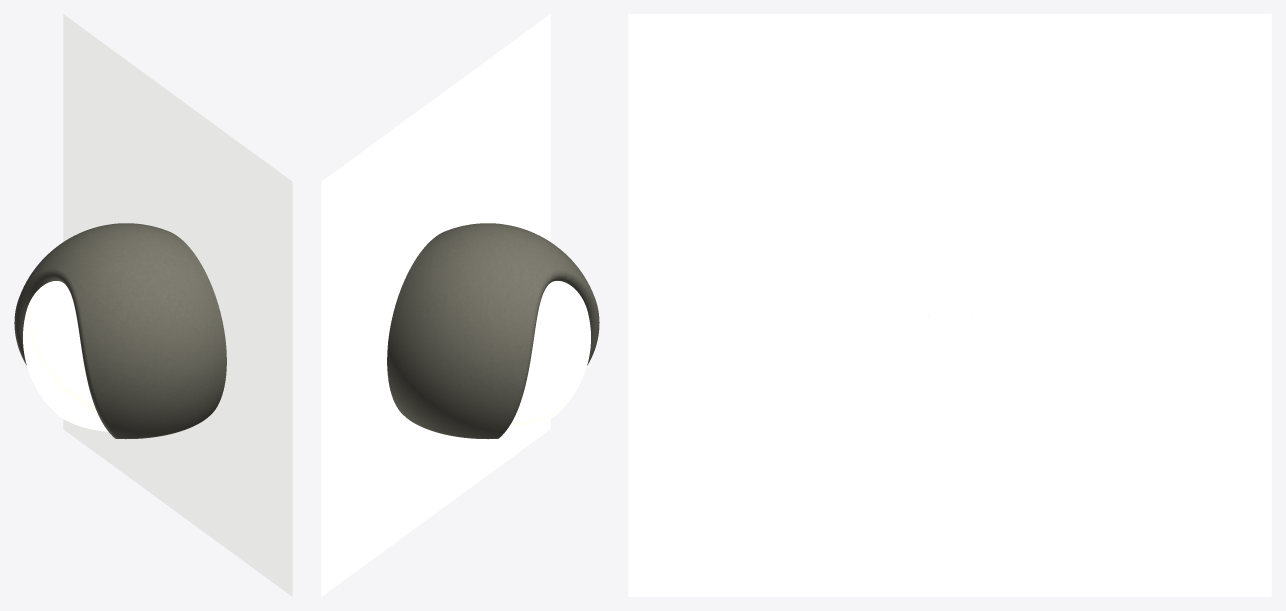
File: opo.glb
3 renders of one model, left to right at view 1: azimuth 30°, elevation 25°; view 2: azimuth 150°, elevation 25°; view 3: azimuth 270°, elevation 25°, orthographic. The views are drawn at different scales.
Parts seen in each view (by area): view 1: Holo; view 2: Holo; view 3: Holo.
Part boxes in pixels (left/top/right/bottom): Holo: left=14, top=14, right=292, bottom=596; Holo: left=321, top=14, right=599, bottom=596; Holo: left=628, top=14, right=1271, bottom=596.
Size of the model in its own units: 0.1067 by 0.3 by 0.3.
Materials: 8 (3 with a texture image).
